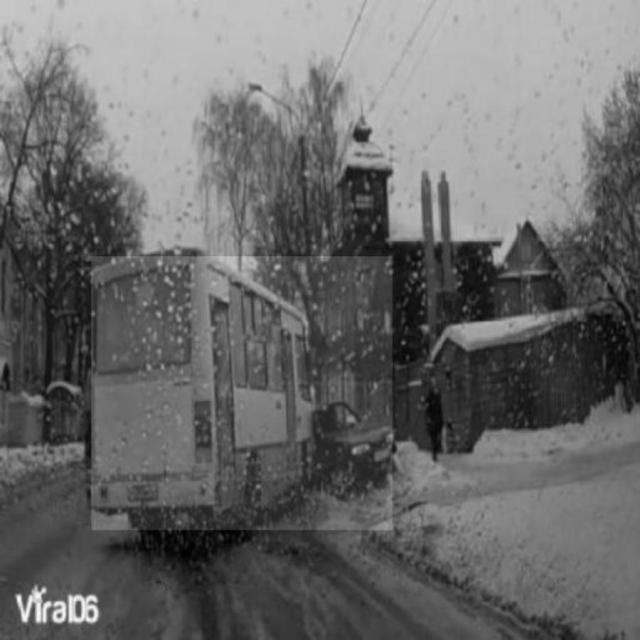accident: (92, 257, 393, 530)
